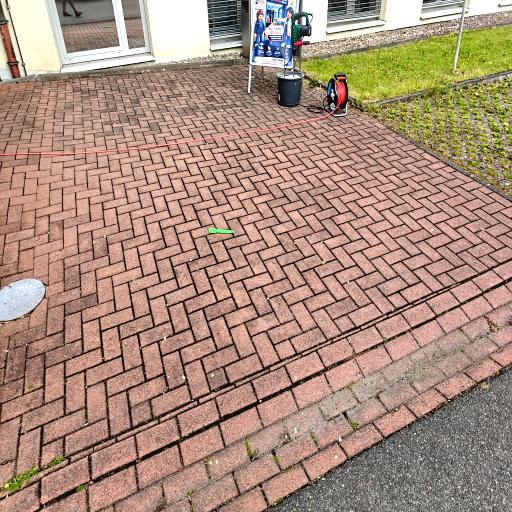Probe-Detection: (209, 228, 234, 234)
